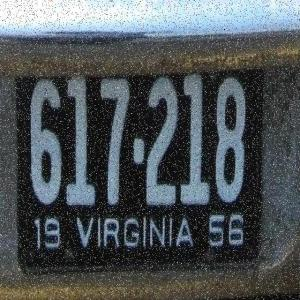Plate: (5, 62, 272, 274)
